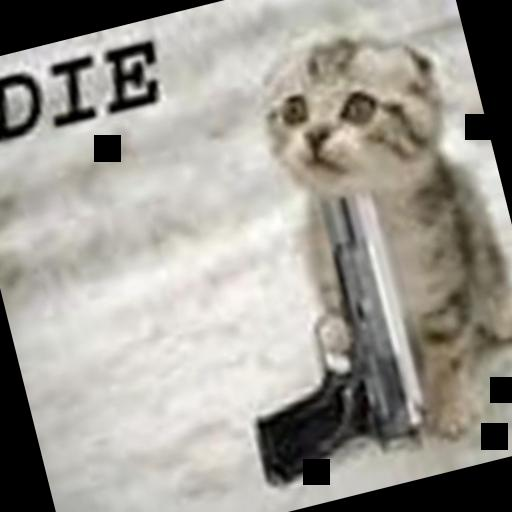Handgun: (195, 176, 443, 488)
